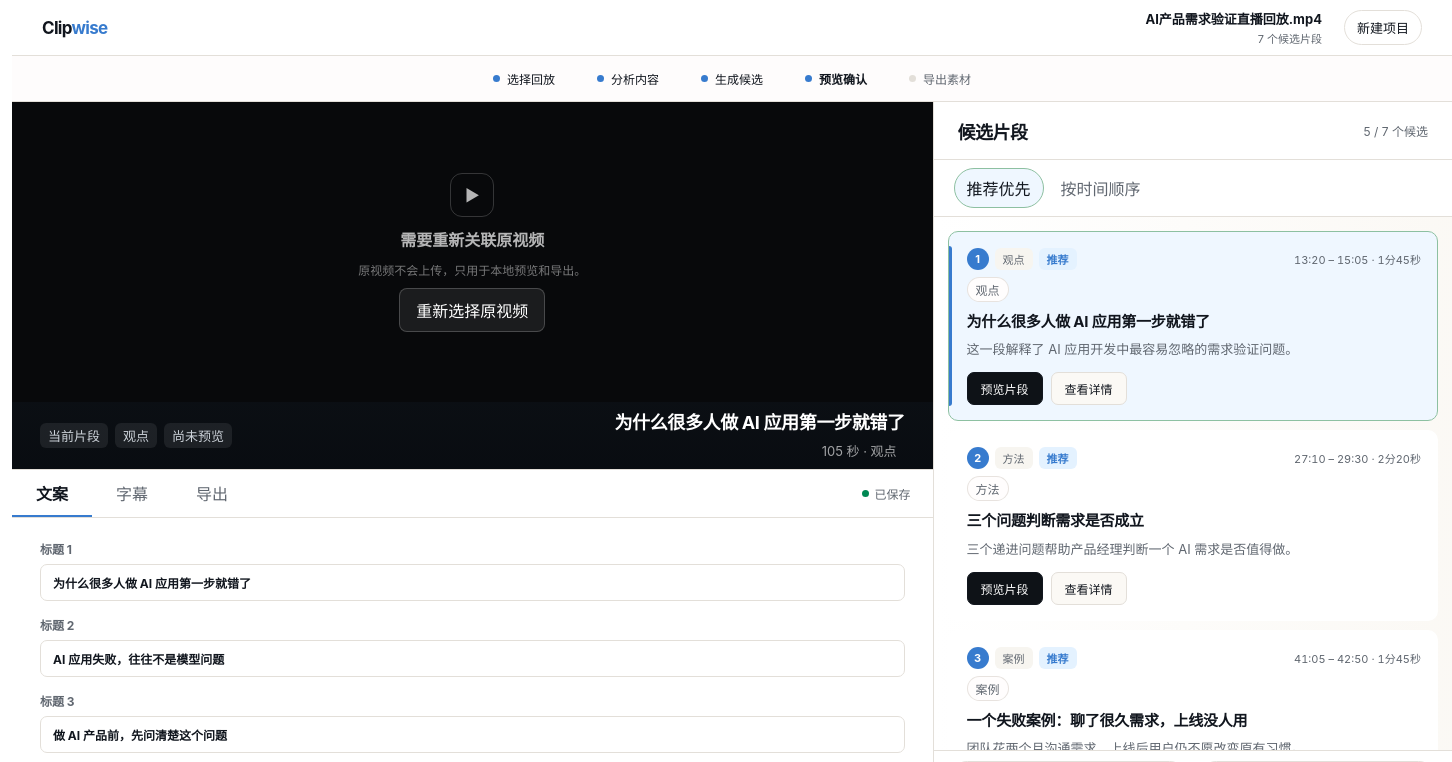
Test: 片段编辑器 › 文案只读区展示剪辑建议与边界说明
The width and height of the screenshot is (1452, 762).
Click the button with aria-label "选择片段：为什么很多人做 AI 应用第一步就错了". click: [1088, 322]
box: [967, 312, 1421, 359]
(page scrolled)
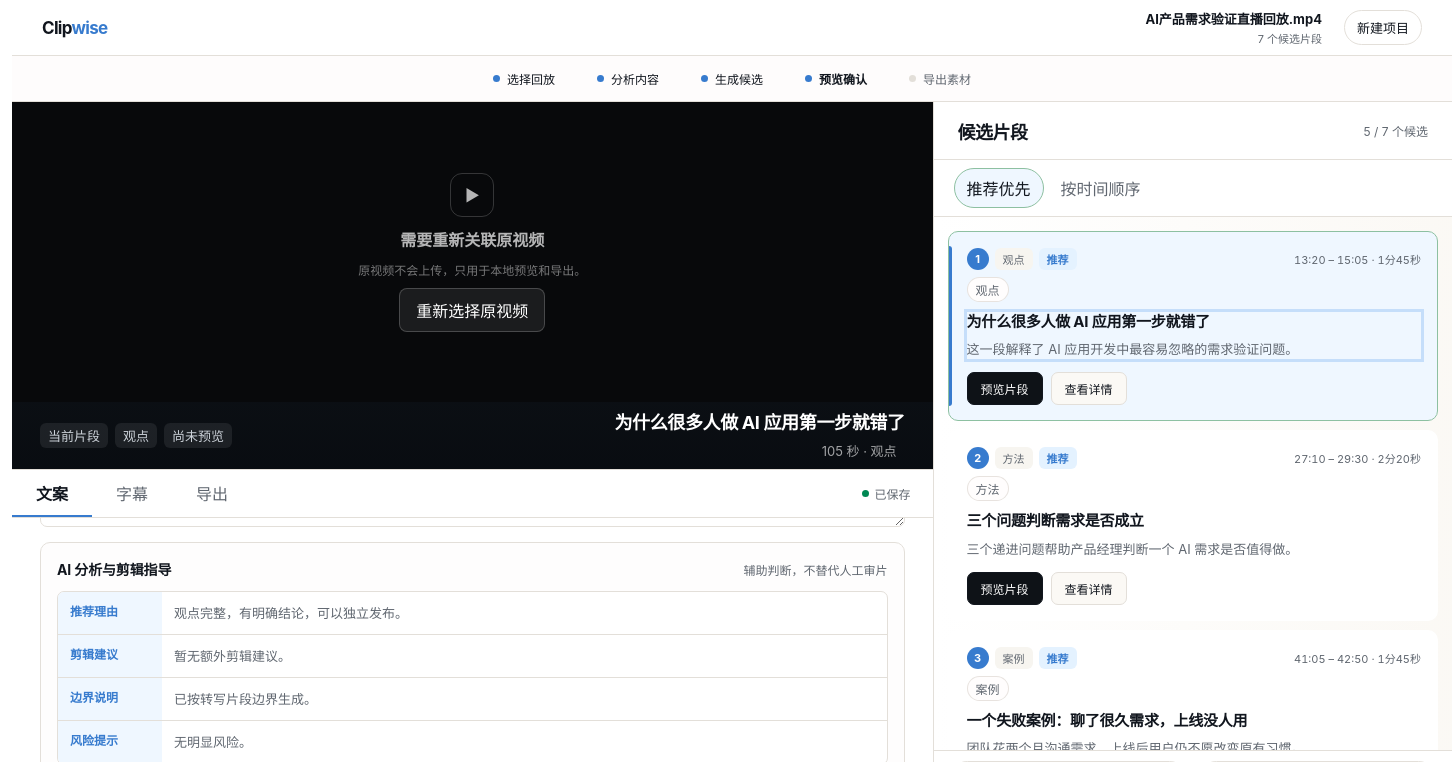
Expected: the text "剪辑建议" is shown, [58, 635, 162, 677]
Expected: the text "边界说明" is shown, [58, 678, 162, 720]
Expected: the text "暂无额外剪辑建议。" is shown, [174, 648, 291, 664]
